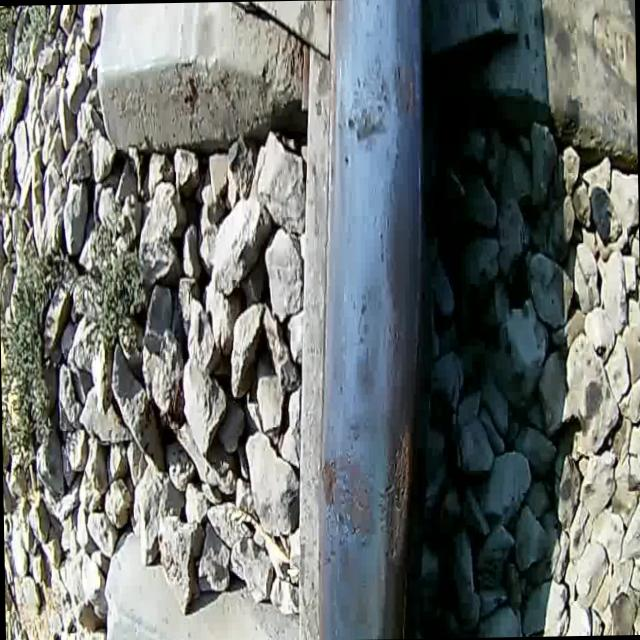Spallings: (372, 415, 415, 572), (320, 455, 342, 512)
Squats: (320, 451, 378, 566), (341, 48, 394, 148), (352, 278, 388, 402), (392, 52, 420, 126)
